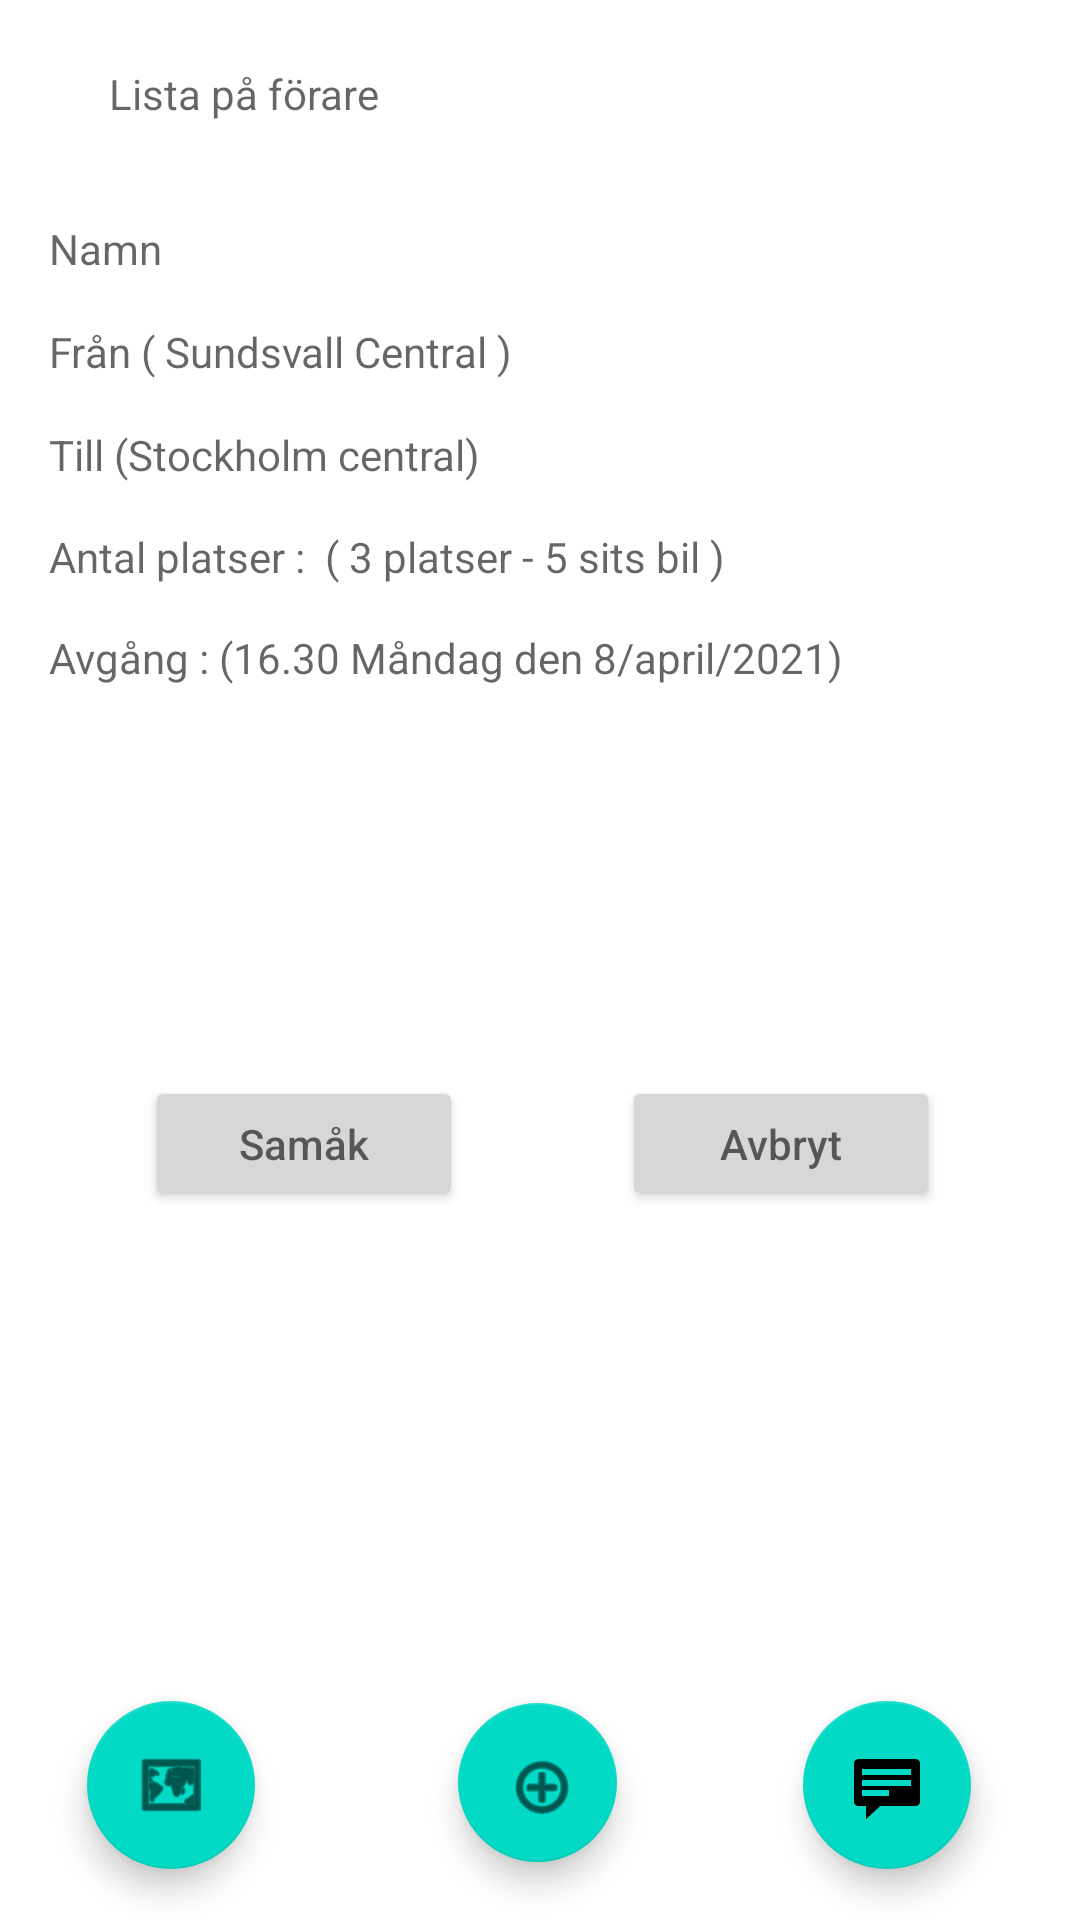

Locate icon controls on the screen. Image size 1080w x 1920h, boxes as (x1, y1, x2, y2).
add: (458, 1703, 617, 1862)
chat: (803, 1701, 971, 1869)
mapmode: (87, 1701, 255, 1869)
